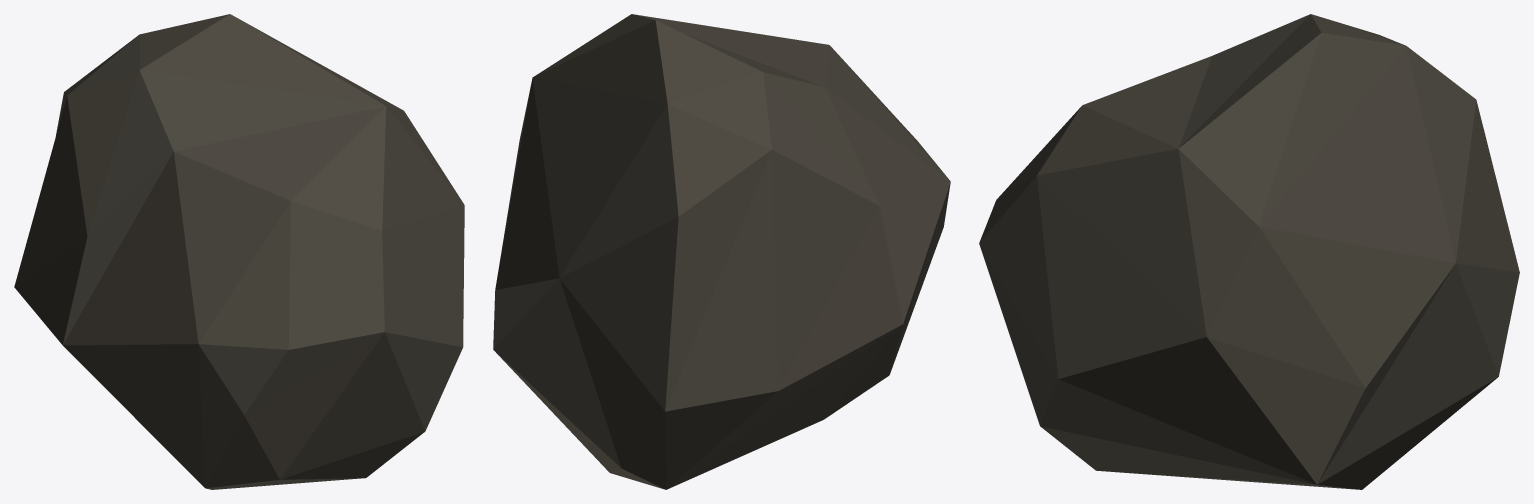
The model's file is SmallBoulder2.FBX.
3 views of the same model, side by side, from view 1: azimuth 30°, elevation 25°; view 2: azimuth 150°, elevation 25°; view 3: azimuth 270°, elevation 25° (orthographic). The views are drawn at different scales.
Parts seen in each view (by area): view 1: SmallBoulder002; view 2: SmallBoulder002; view 3: SmallBoulder002.
Part boxes in pixels (left/top/right/bottom): SmallBoulder002: left=14, top=14, right=464, bottom=489; SmallBoulder002: left=493, top=14, right=950, bottom=489; SmallBoulder002: left=979, top=14, right=1519, bottom=489.
Size of the model in its own units: 20.41 by 21.31 by 23.48.
